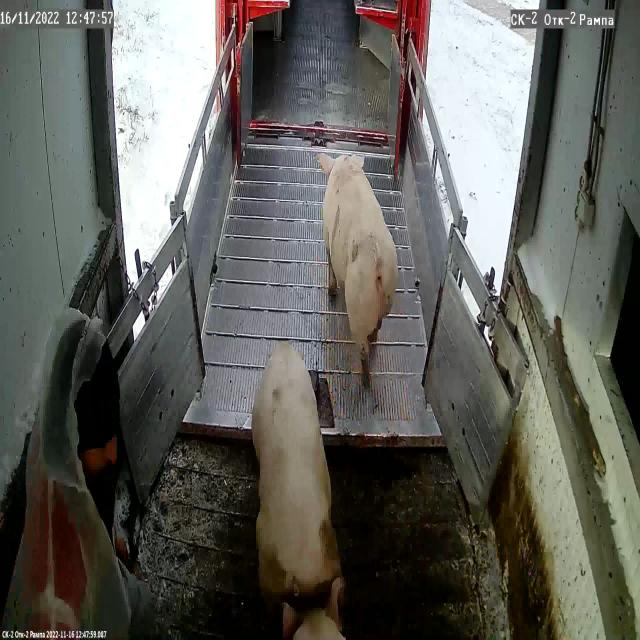pig: (251, 343, 342, 598), (317, 152, 398, 388)
